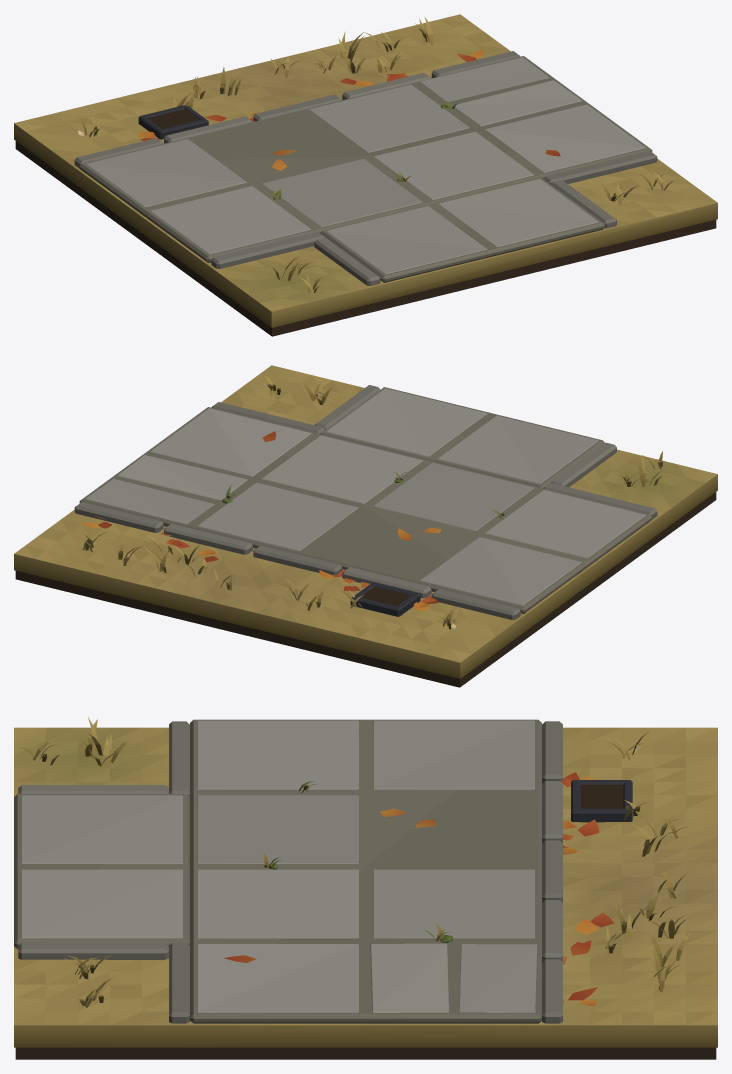
File: road-sidewalk-tjunction-01.glb
The picture shows the model from 3 angles, top to bottom: view 1: azimuth 30°, elevation 25°; view 2: azimuth 150°, elevation 25°; view 3: azimuth 270°, elevation 25°; orthographic projection. The views are drawn at different scales.
Parts seen in each view (by area): view 1: road_sidewalk_tjunction_01; view 2: road_sidewalk_tjunction_01; view 3: road_sidewalk_tjunction_01.
Boxes of the visible parts, box(x1,y1,x2,y2) form: road_sidewalk_tjunction_01: box(14, 14, 717, 336); road_sidewalk_tjunction_01: box(14, 365, 717, 687); road_sidewalk_tjunction_01: box(14, 717, 717, 1059).
Bounding box in the file's own units: 4 × 0.4219 × 4.
